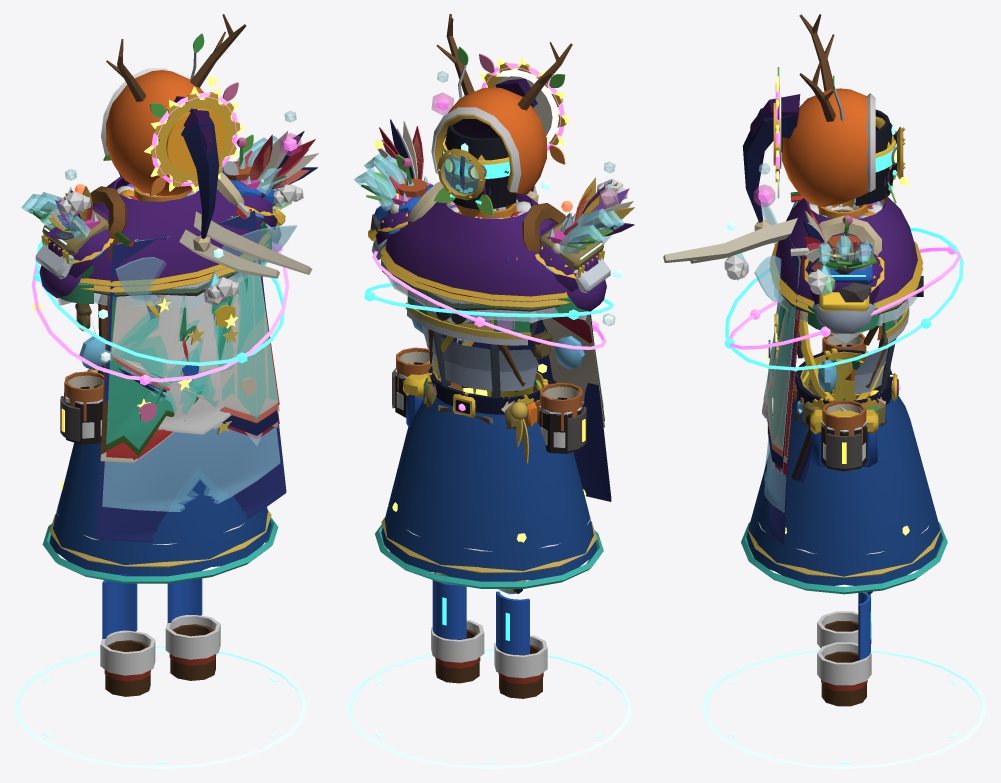
Rendered from tenues_250_v002.glb.
The picture shows the model from 3 angles, left to right: view 1: azimuth 30°, elevation 25°; view 2: azimuth 150°, elevation 25°; view 3: azimuth 270°, elevation 25°; orthographic projection. The views are drawn at different scales.
Parts seen in each view (by area): view 1: tenue_mage_des_marees__bassin, tenue_veilleur_des_etoiles__torse, tenue_fantome_du_phare__torse, tenue_artiste_des_couleurs__torse, tenue_alchimiste_dore__torse, tenue_mage_des_marees__torse, tenue_gardien_des_recifs__torse, tenue_explorateur_polaire__tete, tenue_pirate_des_nuages__torse, tenue_gardien_de_la_foret__torse, tenue_reine_des_lucioles__torse, tenue_pilote_retro__torse (+38 smaller); view 2: tenue_mage_des_marees__bassin, tenue_alchimiste_dore__torse, tenue_explorateur_polaire__tete, tenue_chevalier_des_brumes__torse, tenue_veilleur_des_etoiles__torse, tenue_alchimiste_dore__epaule_G, tenue_chasseur_de_cometes__torse, tenue_champion_pixel__tete, tenue_chevalier_des_brumes__racine, tenue_roi_des_champignons__torse, tenue_alchimiste_dore__tete, tenue_facteur_express__genou_G (+40 smaller); view 3: tenue_mage_des_marees__bassin, tenue_explorateur_polaire__tete, tenue_alchimiste_dore__torse, tenue_artiste_des_couleurs__torse, tenue_chasseur_de_cometes__torse, tenue_facteur_express__torse, tenue_chevalier_des_brumes__racine, tenue_fantome_du_phare__torse, tenue_astronome_de_minuit__tete, tenue_pilote_retro__torse, tenue_gardien_des_recifs__torse, tenue_veilleur_des_etoiles__torse (+25 smaller).
Part boxes in pixels (left/top/right/bottom): tenue_mage_des_marees__bassin: left=42, top=442, right=278, bottom=583; tenue_veilleur_des_etoiles__torse: left=96, top=210, right=286, bottom=542; tenue_fantome_du_phare__torse: left=57, top=198, right=291, bottom=511; tenue_artiste_des_couleurs__torse: left=106, top=202, right=279, bottom=422; tenue_alchimiste_dore__torse: left=59, top=176, right=291, bottom=305; tenue_mage_des_marees__torse: left=106, top=219, right=264, bottom=449; tenue_gardien_des_recifs__torse: left=99, top=275, right=277, bottom=420; tenue_explorateur_polaire__tete: left=101, top=68, right=203, bottom=196; tenue_pirate_des_nuages__torse: left=135, top=216, right=232, bottom=434; tenue_gardien_de_la_foret__torse: left=100, top=214, right=247, bottom=459; tenue_reine_des_lucioles__torse: left=32, top=76, right=296, bottom=310; tenue_pilote_retro__torse: left=179, top=211, right=312, bottom=278; tenue_mage_des_marees__bassin: left=375, top=397, right=603, bottom=588; tenue_alchimiste_dore__torse: left=380, top=189, right=618, bottom=301; tenue_explorateur_polaire__tete: left=431, top=87, right=546, bottom=194; tenue_chevalier_des_brumes__torse: left=422, top=311, right=538, bottom=391; tenue_veilleur_des_etoiles__torse: left=442, top=314, right=611, bottom=501; tenue_alchimiste_dore__epaule_G: left=535, top=177, right=634, bottom=311; tenue_chasseur_de_cometes__torse: left=364, top=203, right=613, bottom=397; tenue_champion_pixel__tete: left=444, top=125, right=517, bottom=209; tenue_chevalier_des_brumes__racine: left=347, top=648, right=631, bottom=768; tenue_roi_des_champignons__torse: left=450, top=204, right=604, bottom=427; tenue_alchimiste_dore__tete: left=434, top=78, right=535, bottom=196; tenue_facteur_express__genou_G: left=496, top=580, right=529, bottom=655; tenue_mage_des_marees__bassin: left=741, top=395, right=947, bottom=594; tenue_explorateur_polaire__tete: left=781, top=88, right=875, bottom=206; tenue_alchimiste_dore__torse: left=737, top=196, right=922, bottom=308; tenue_artiste_des_couleurs__torse: left=767, top=201, right=809, bottom=456; tenue_chasseur_de_cometes__torse: left=725, top=199, right=963, bottom=390; tenue_facteur_express__torse: left=799, top=311, right=885, bottom=466; tenue_chevalier_des_brumes__racine: left=702, top=650, right=986, bottom=768; tenue_fantome_du_phare__torse: left=764, top=195, right=917, bottom=512; tenue_astronome_de_minuit__tete: left=742, top=108, right=897, bottom=222; tenue_pilote_retro__torse: left=663, top=218, right=797, bottom=263; tenue_gardien_des_recifs__torse: left=766, top=260, right=799, bottom=447; tenue_veilleur_des_etoiles__torse: left=767, top=201, right=798, bottom=545.
Bounding box in the file's own units: 0.9144 × 2.23 × 0.9724.
